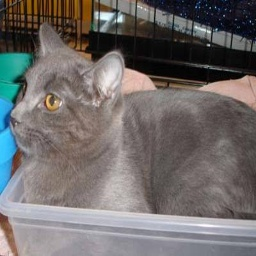cat: (12, 30, 256, 225)
